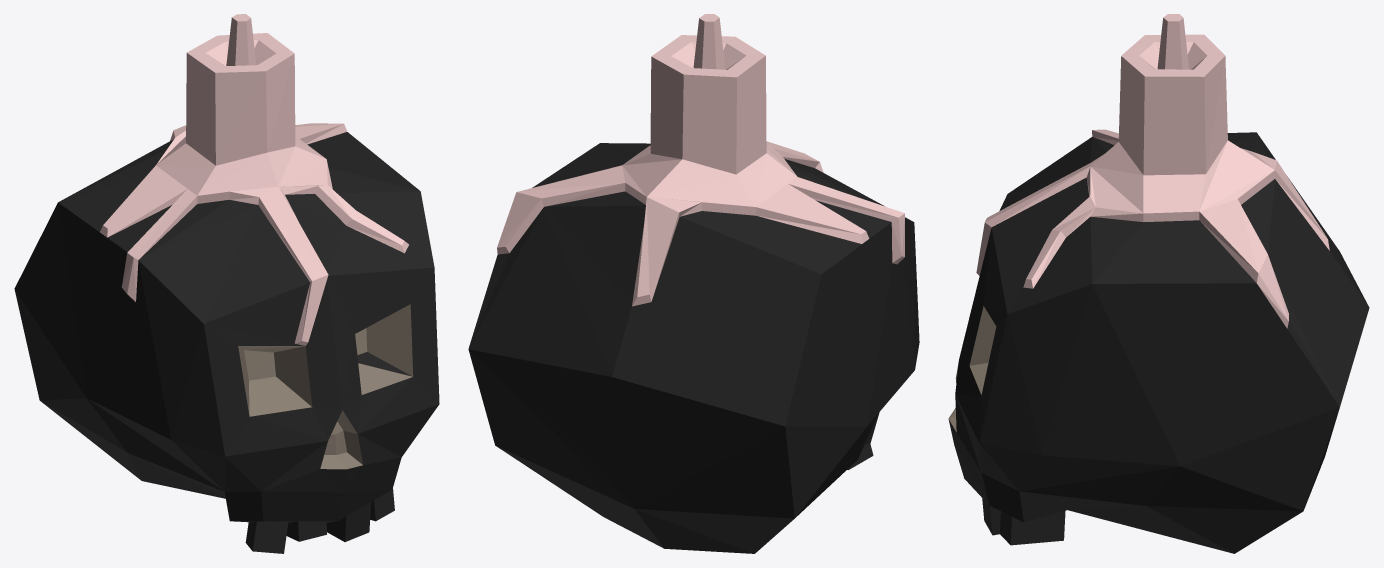
The model's file is SM_Item_SkullCandle_01.glb.
3 renders of one model, left to right at view 1: azimuth 30°, elevation 25°; view 2: azimuth 150°, elevation 25°; view 3: azimuth 270°, elevation 25°, orthographic. The views are drawn at different scales.
Parts seen in each view (by area): view 1: SM_Item_SkullCandle_01_00; view 2: SM_Item_SkullCandle_01_00; view 3: SM_Item_SkullCandle_01_00.
Part boxes in pixels (<box>): SM_Item_SkullCandle_01_00: <box>14,14,439,553</box>; SM_Item_SkullCandle_01_00: <box>468,14,919,553</box>; SM_Item_SkullCandle_01_00: <box>948,14,1369,553</box>.
Bounding box in the file's own units: 0.2331 × 0.3446 × 0.2621.
1 material, 1 textured.
